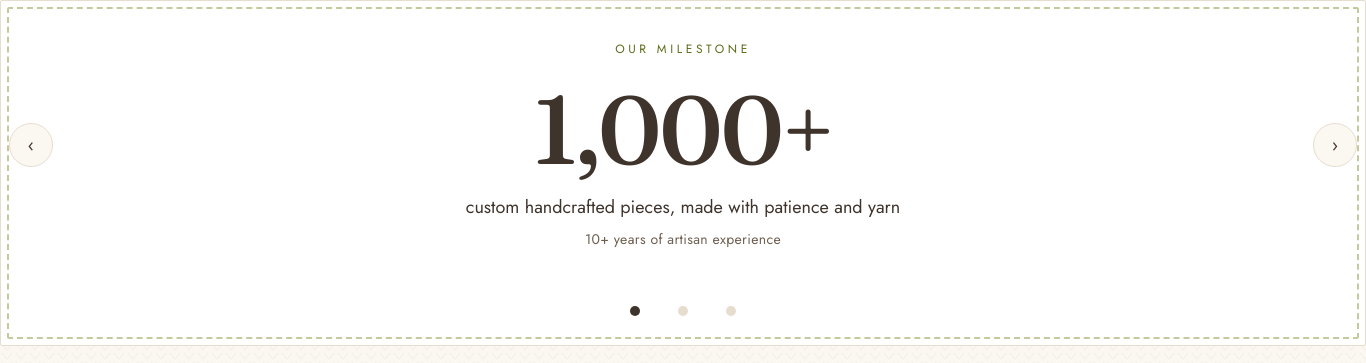
Test: TestimonialCarousel › moves to the next/previous slide and loops at both ends
The width and height of the screenshot is (1366, 363).
Click the button named "Next testimonial". click: (1335,145)
box: [1313, 123, 1357, 167]
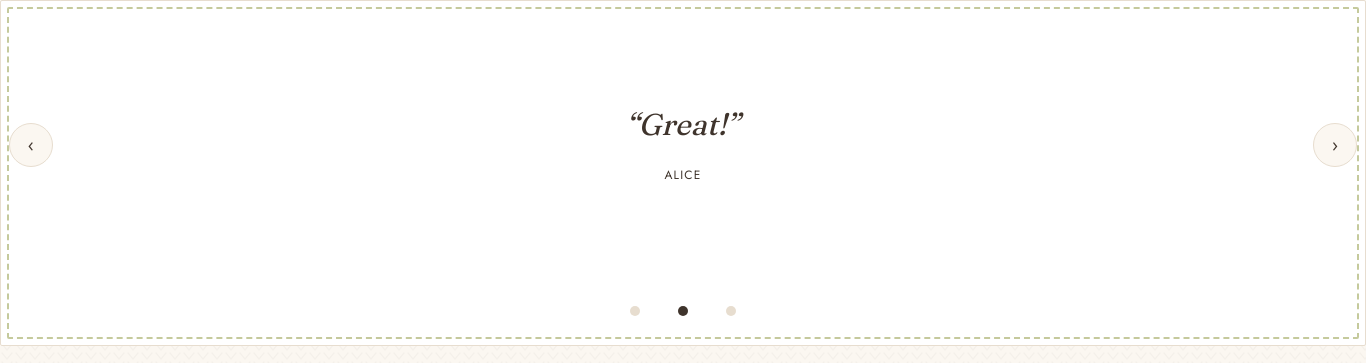
Now the element showing "“Great!” Alice" is shown, box [626, 106, 740, 184]
Click the button named "Next testimonial". click: (1335,145)
box: [1313, 123, 1357, 167]
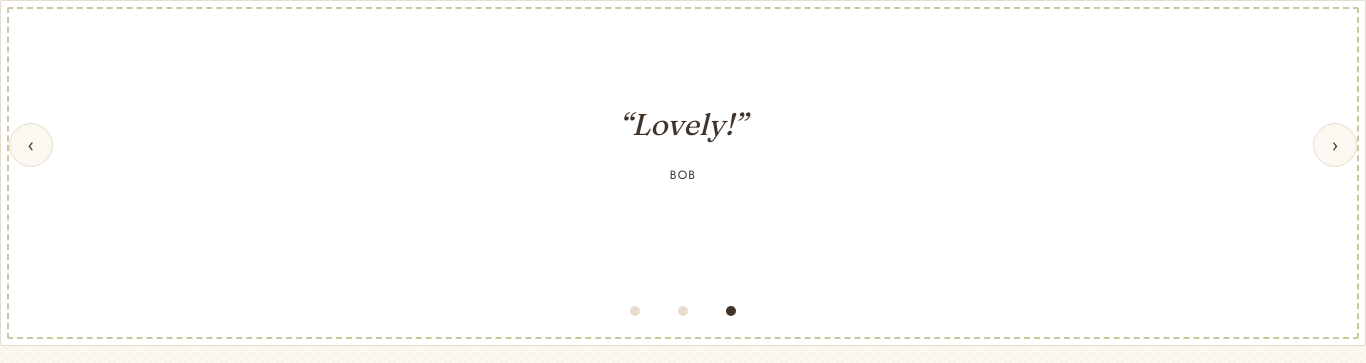
Now the element showing "“Lovely!” Bob" is shown, box [619, 106, 747, 184]
Looping forward past the last slide should wrap to the milestone.
Click the button named "Next testimonial". click: (1335,145)
box: [1313, 123, 1357, 167]
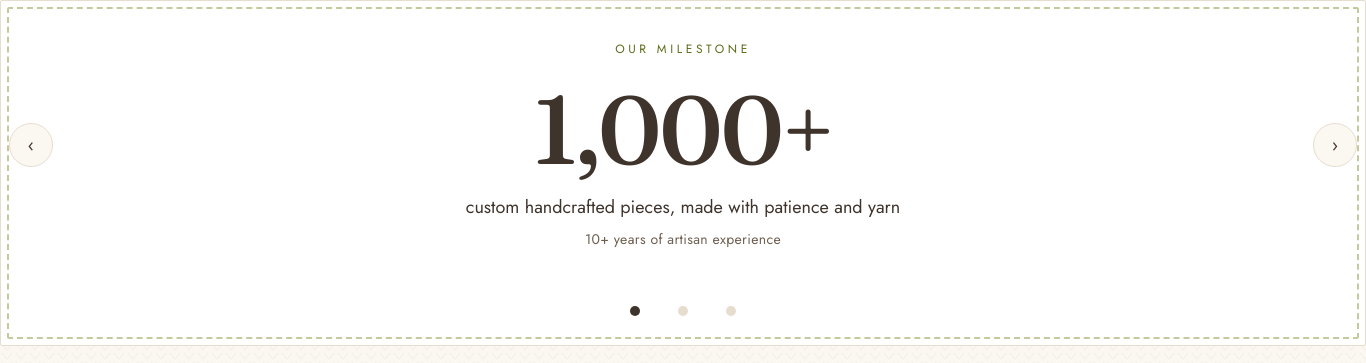
Now the element that starts with "Our Milestone" shows "1,000+", box [533, 70, 833, 188]
Looping backward past the first slide should wrap to the last testimonial.
Click the button named "Previous testimonial". click: (31,145)
box: [9, 123, 53, 167]
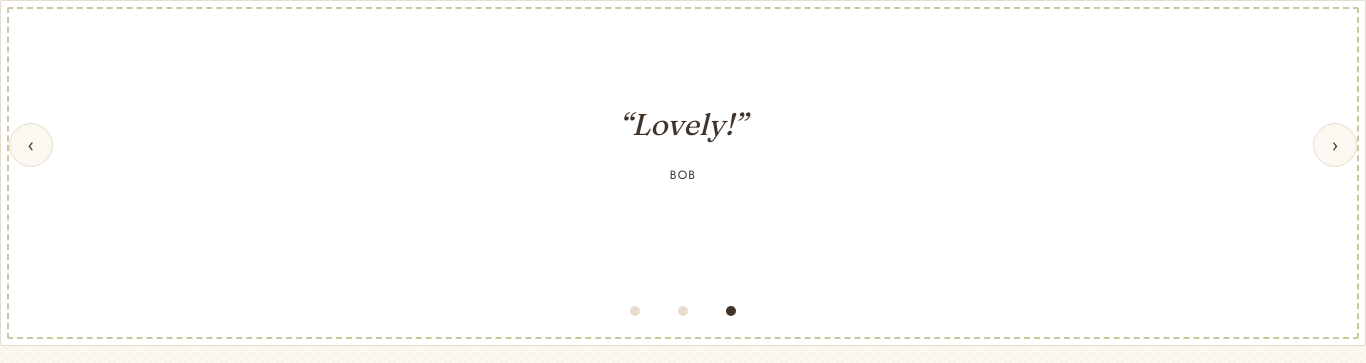
Now the element showing "“Lovely!” Bob" is shown, box [619, 106, 747, 184]
